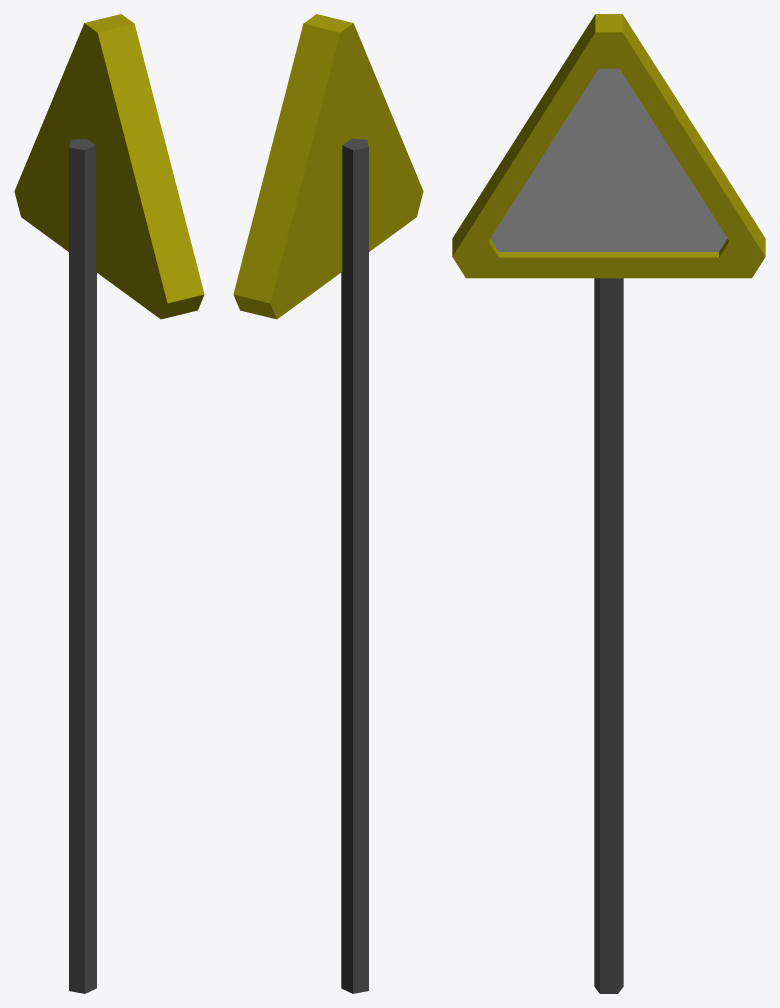
Rendered from Sign_Triangle.glb.
3 renders of one model, left to right at view 1: azimuth 30°, elevation 25°; view 2: azimuth 150°, elevation 25°; view 3: azimuth 270°, elevation 25°, orthographic. The views are drawn at different scales.
Parts seen in each view (by area): view 1: Sign_Triangle; view 2: Sign_Triangle; view 3: Sign_Triangle.
Boxes of the visible parts, x1,y1,x2,y2 form: Sign_Triangle: (14, 14, 204, 993); Sign_Triangle: (233, 14, 423, 993); Sign_Triangle: (452, 14, 765, 993).
Bounding box in the file's own units: 0.0345 × 0.5344 × 0.1549.
